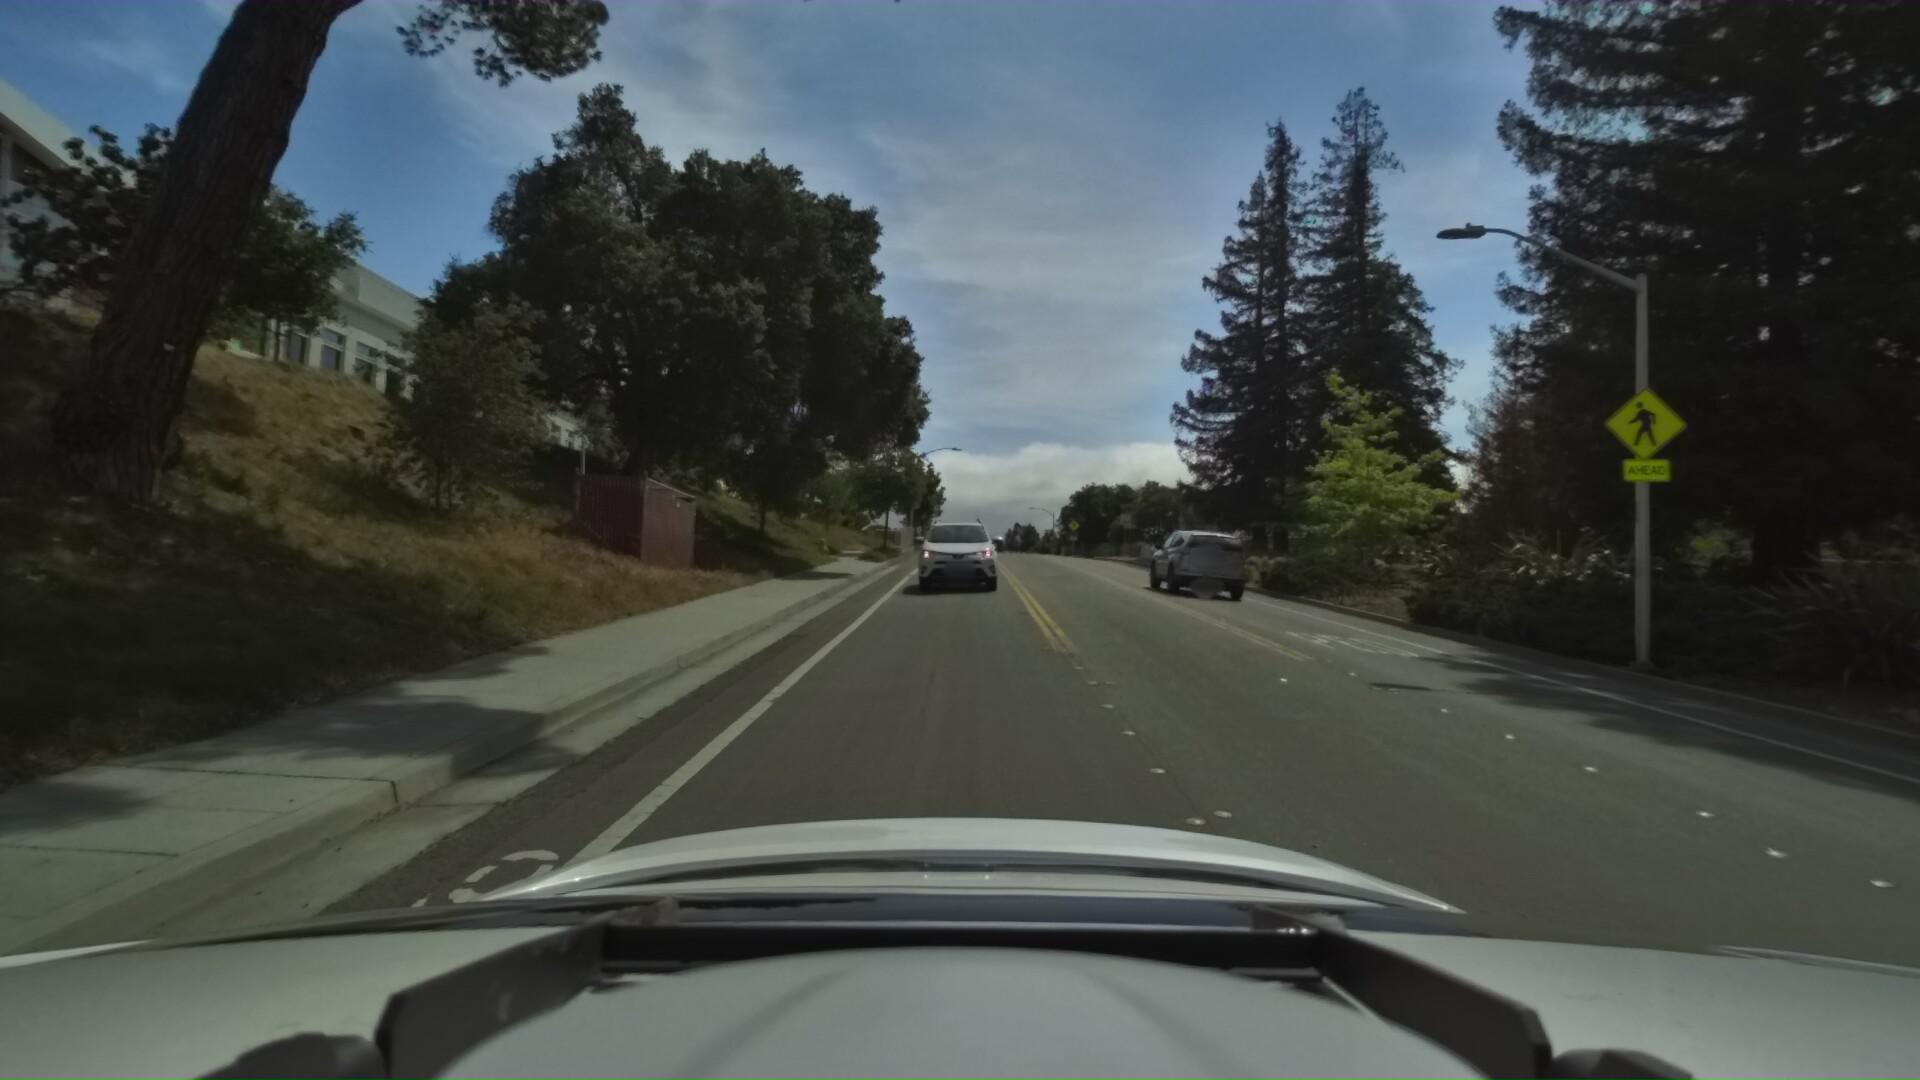car: (907, 497, 1004, 596), (1135, 518, 1241, 595)
